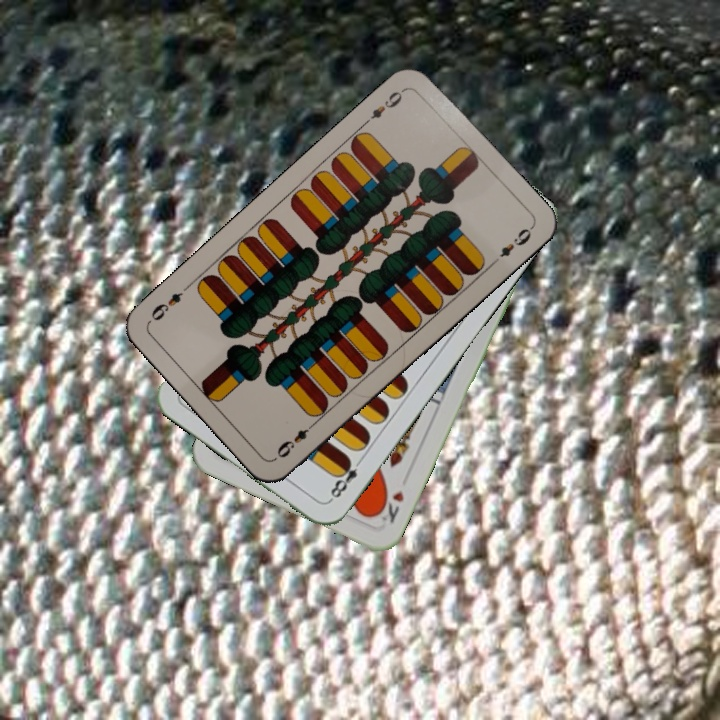E8: (325, 453, 366, 504)
E9: (271, 417, 319, 463), (360, 84, 408, 128)
HK: (373, 486, 407, 526)
